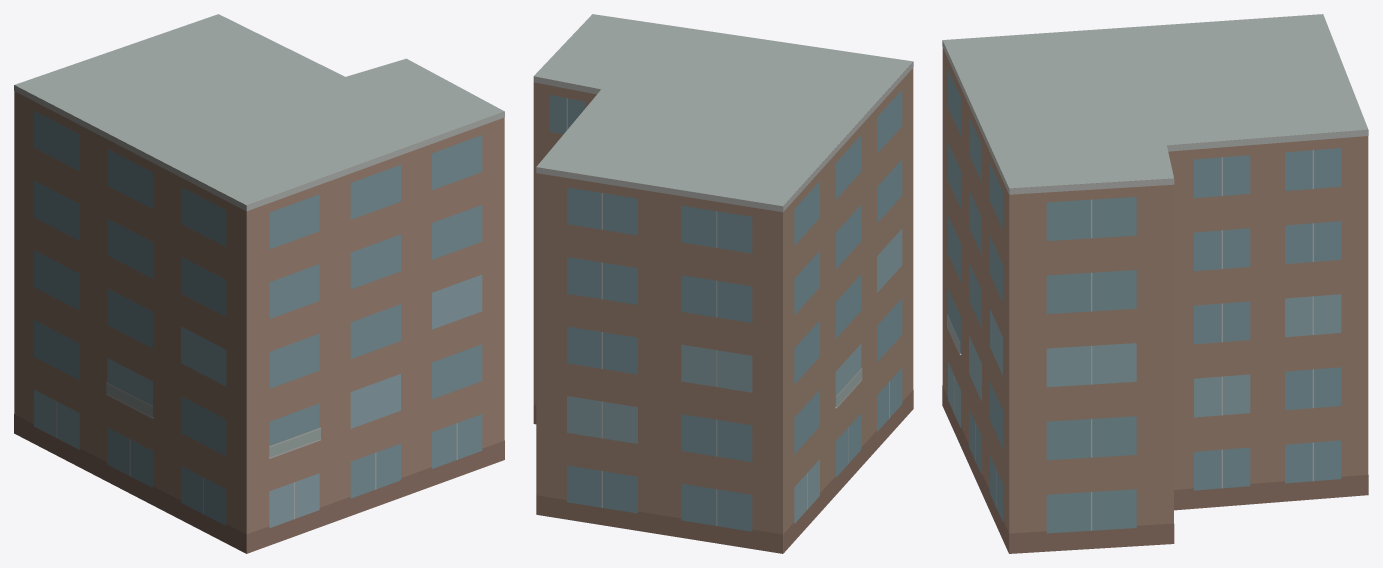
The model's file is survey-upis-33045103.glb.
3 renders of one model, left to right at view 1: azimuth 30°, elevation 25°; view 2: azimuth 150°, elevation 25°; view 3: azimuth 270°, elevation 25°, orthographic. The views are drawn at different scales.
Parts seen in each view (by area): view 1: survey-upis-33045103.tmp; view 2: survey-upis-33045103.tmp; view 3: survey-upis-33045103.tmp.
Boxes of the visible parts, bbox=[...] form: survey-upis-33045103.tmp: bbox=[14, 14, 504, 553]; survey-upis-33045103.tmp: bbox=[533, 14, 913, 553]; survey-upis-33045103.tmp: bbox=[942, 14, 1368, 553].
Bounding box in the file's own units: 14.44 × 14.1 × 14.91.
